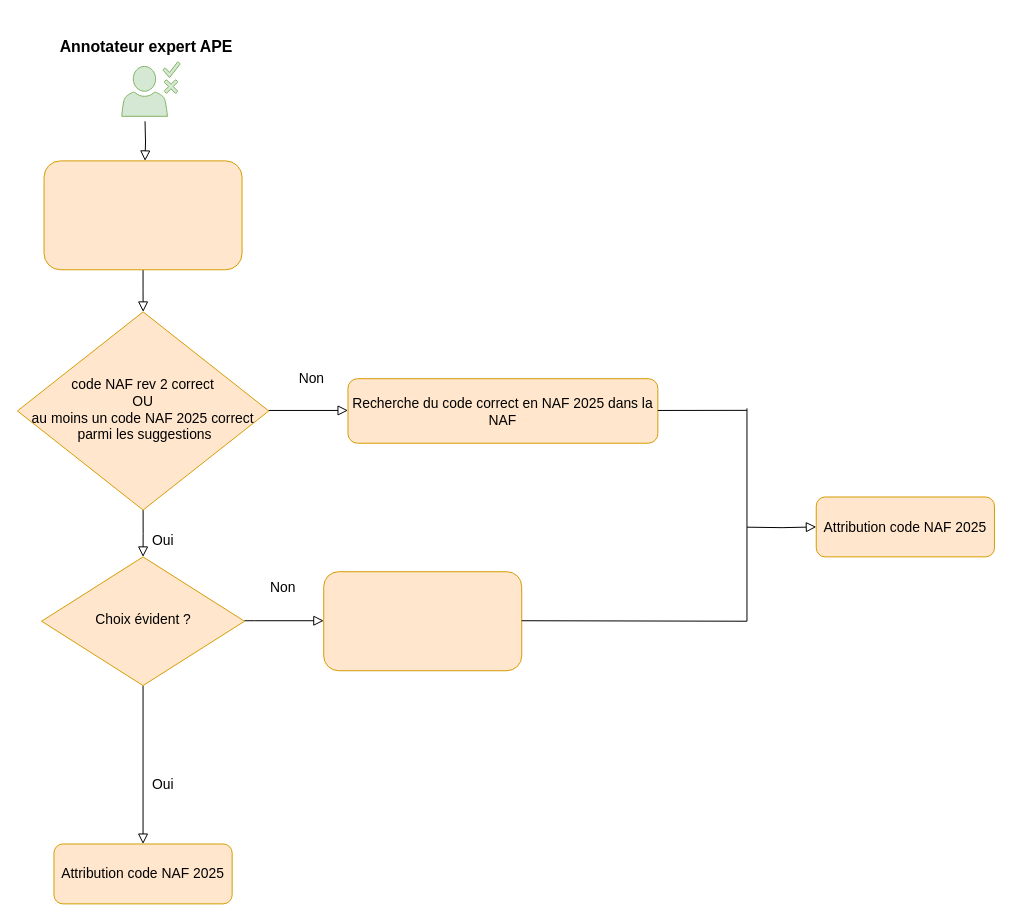
The diagram is 1012 pixels wide and 921 high, and some of its shapes have lost their labels. Here are the shapes that lost their labels. From the top down, the box of each, then its label:
(43, 160, 242, 270): Examiner : libellé d'activité variables annexes NAF rev 2 suggestions NAF 2025
(323, 571, 522, 671): Examiner : table de correspondance description sous-classes (notes explicatives)
